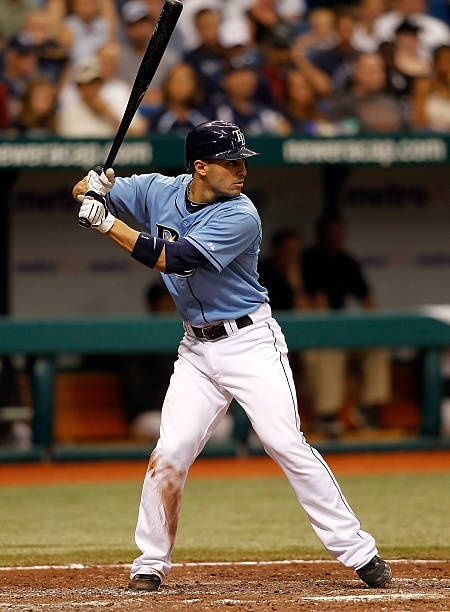bita: (91, 2, 182, 193)
